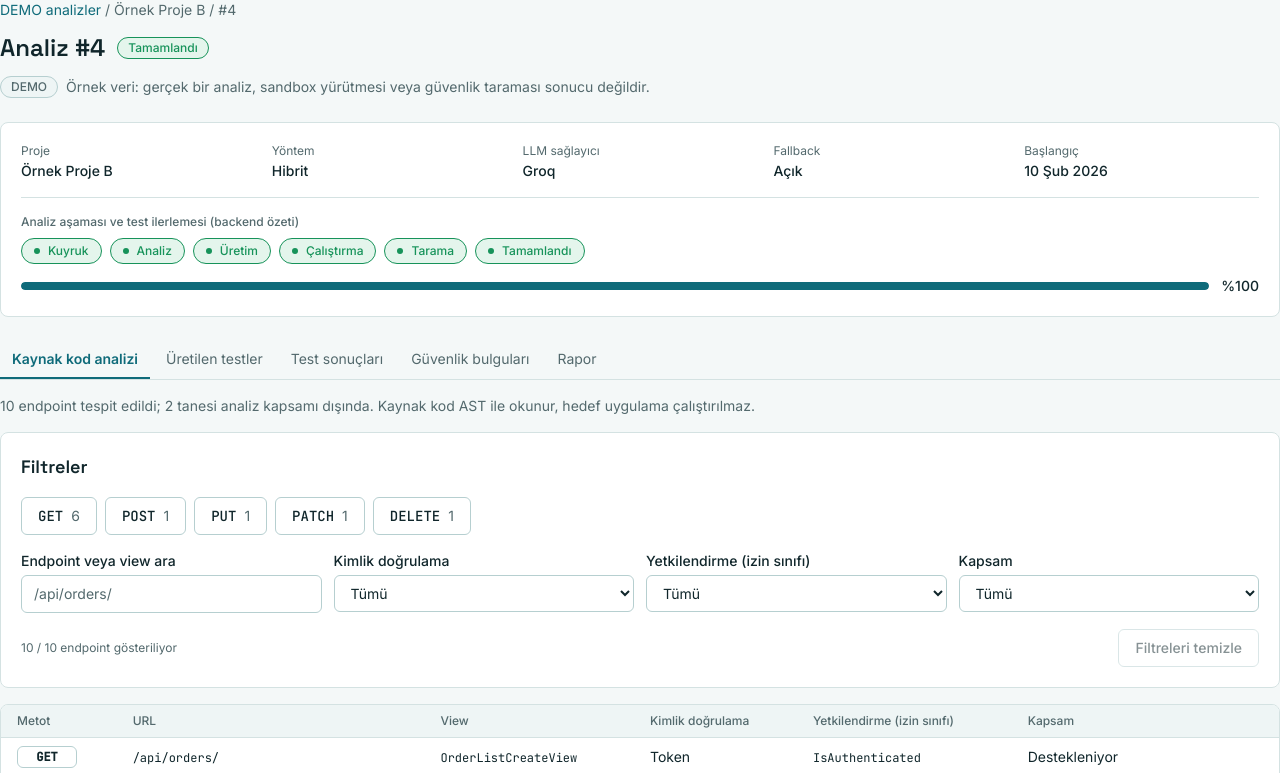
Test: kaynak kod analizi › eşleşme yoksa boş filtre durumu ve temizleme eylemi
Type "olmayan-yol" into the search field labelled "Endpoint veya view ara" at (171, 594), box [21,575,322,613]
(page scrolled)
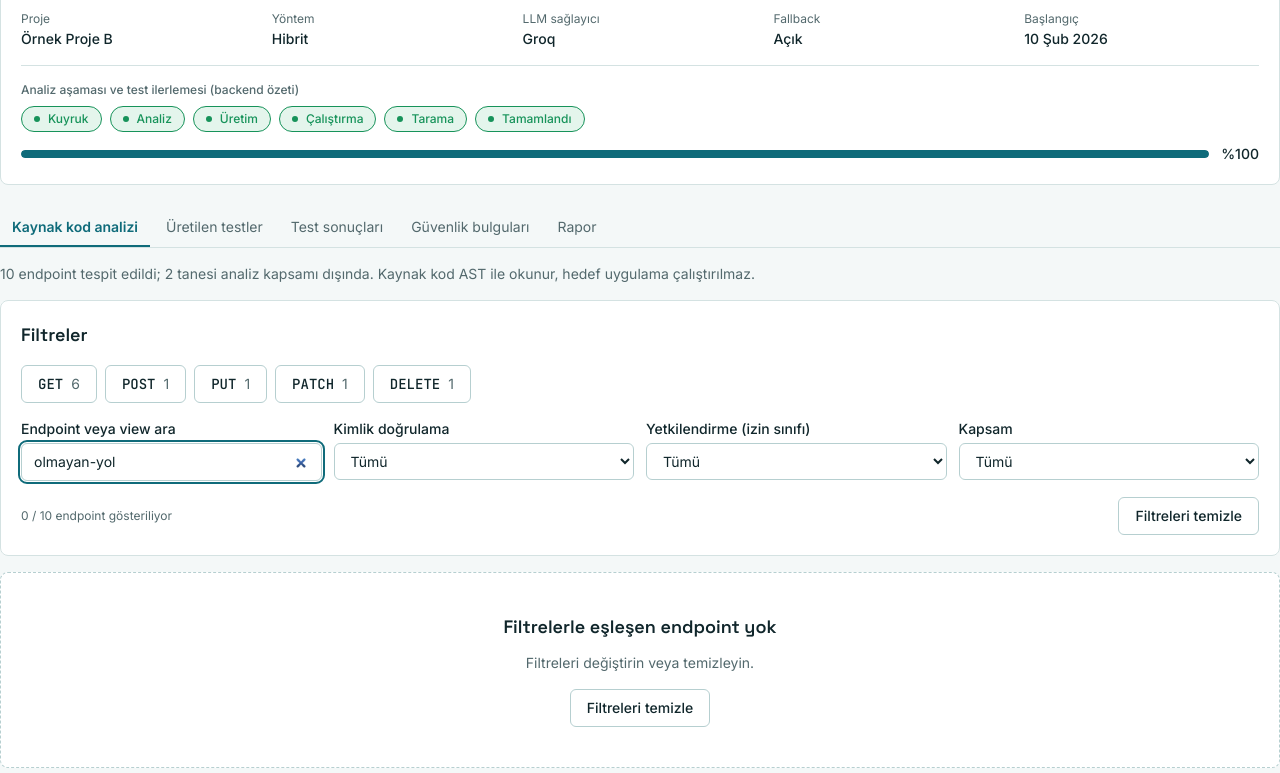
Expected: the heading "Filtrelerle eşleşen endpoint yok" is shown, [504,613,776,641]
Click the button "Filtreleri temizle" below "Filtreleri değiştirin veya temizleyin." at (640, 708), box [570,689,710,727]
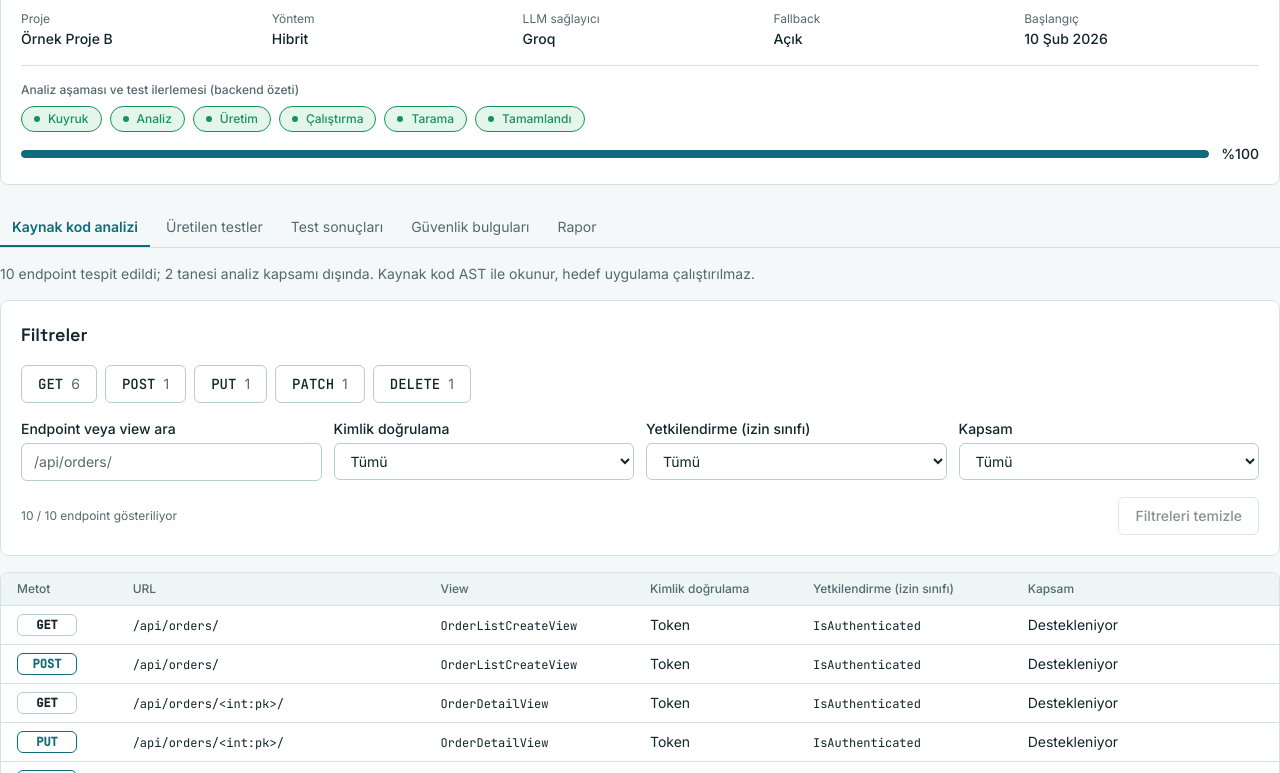
Expected: the text "10 / 10 endpoint gösteriliyor" is shown, [21,508,177,524]
